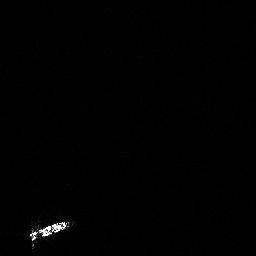ship: (25, 216, 77, 250)
